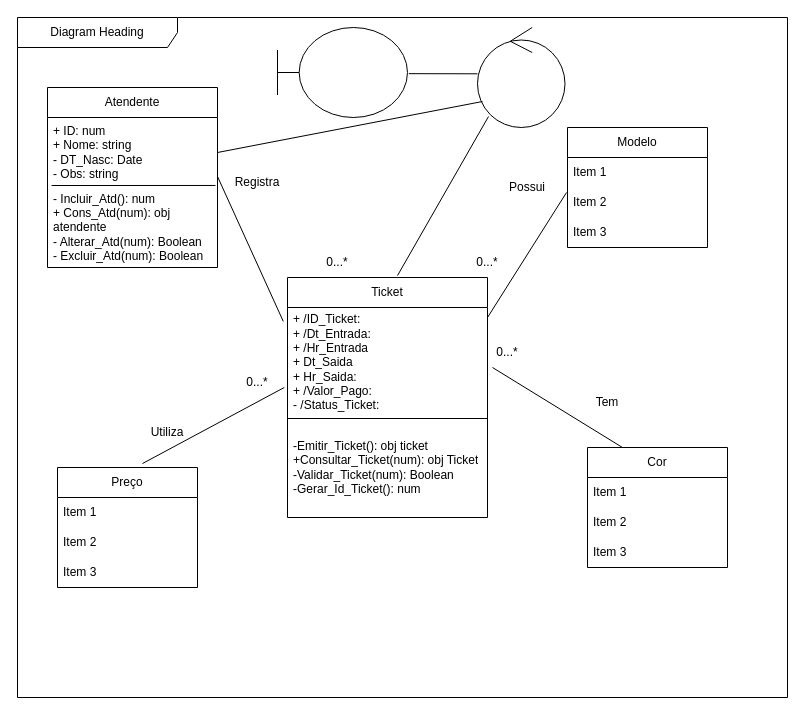
Image size: 805x715. Some labels were removed from this diagram. The centre of each missing label's shape, as x and y in pixels:
Control_Est: point 520,77
Interface_Estc: point 342,72
